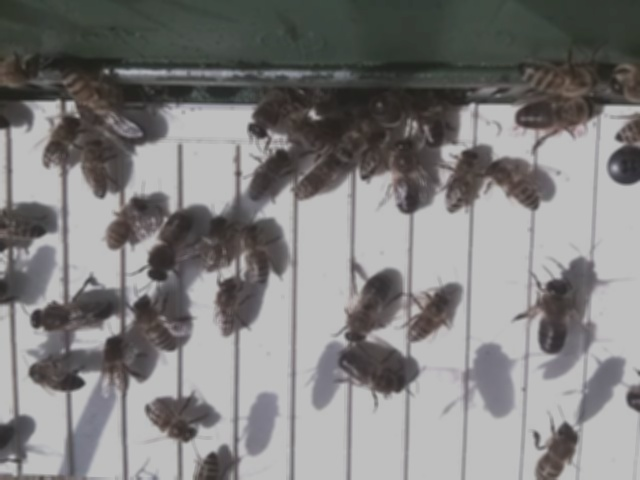Drone: (26, 291, 115, 337), (145, 208, 195, 287), (342, 272, 394, 347), (336, 347, 406, 397), (535, 276, 572, 360), (512, 100, 596, 135), (388, 135, 422, 217)
Worker: (483, 160, 539, 214), (242, 144, 290, 207), (529, 424, 582, 480), (131, 291, 176, 352), (441, 145, 478, 219), (38, 114, 80, 179), (405, 287, 450, 346), (104, 195, 147, 255), (139, 400, 196, 444), (23, 359, 90, 396), (289, 156, 335, 208), (95, 337, 134, 397), (199, 211, 231, 279), (78, 135, 110, 203), (241, 219, 273, 284), (213, 277, 242, 343), (0, 215, 52, 245)
